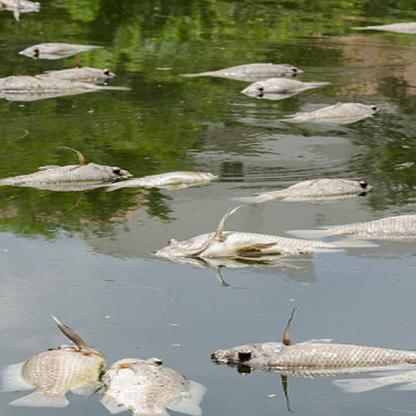deceased fish: (199, 309, 416, 373), (3, 316, 104, 416), (94, 332, 196, 416), (144, 227, 339, 266), (1, 143, 126, 194), (228, 168, 374, 202), (286, 208, 416, 239), (109, 168, 222, 193), (276, 100, 381, 126), (195, 58, 303, 81), (1, 75, 107, 95), (25, 61, 117, 80), (18, 39, 104, 59), (241, 78, 331, 96)
